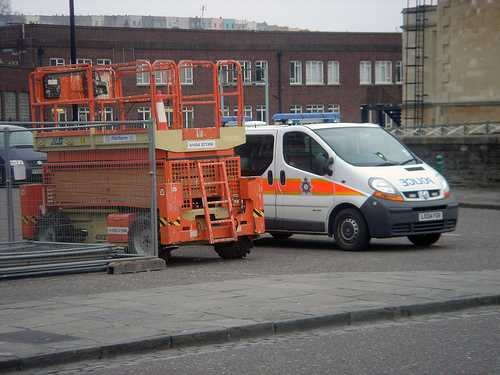Police Van: (235, 97, 463, 253)
